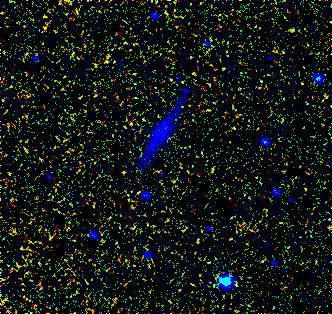star: (110, 158, 140, 188)
